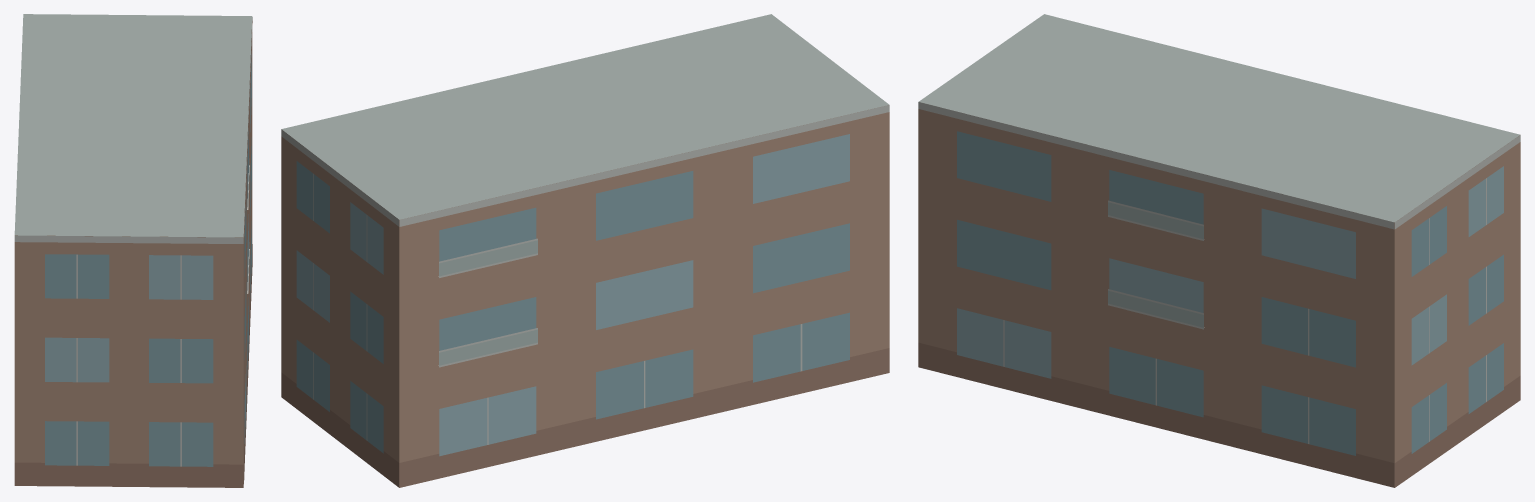
File: survey-upis-32703955.glb
3 views of the same model, side by side, from view 1: azimuth 30°, elevation 25°; view 2: azimuth 150°, elevation 25°; view 3: azimuth 270°, elevation 25° (orthographic). The views are drawn at different scales.
Visible parts, largest first — view 1: survey-upis-32703955.tmp; view 2: survey-upis-32703955.tmp; view 3: survey-upis-32703955.tmp.
Part boxes in pixels (x1,y1,x2,y2): survey-upis-32703955.tmp: (14,14,252,487); survey-upis-32703955.tmp: (281,14,889,487); survey-upis-32703955.tmp: (918,14,1520,487).
Size of the model in its own units: 15.42 by 9.15 by 18.82.
